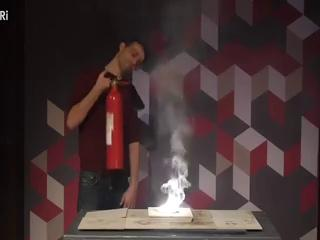Fire: (163, 180, 187, 216)
